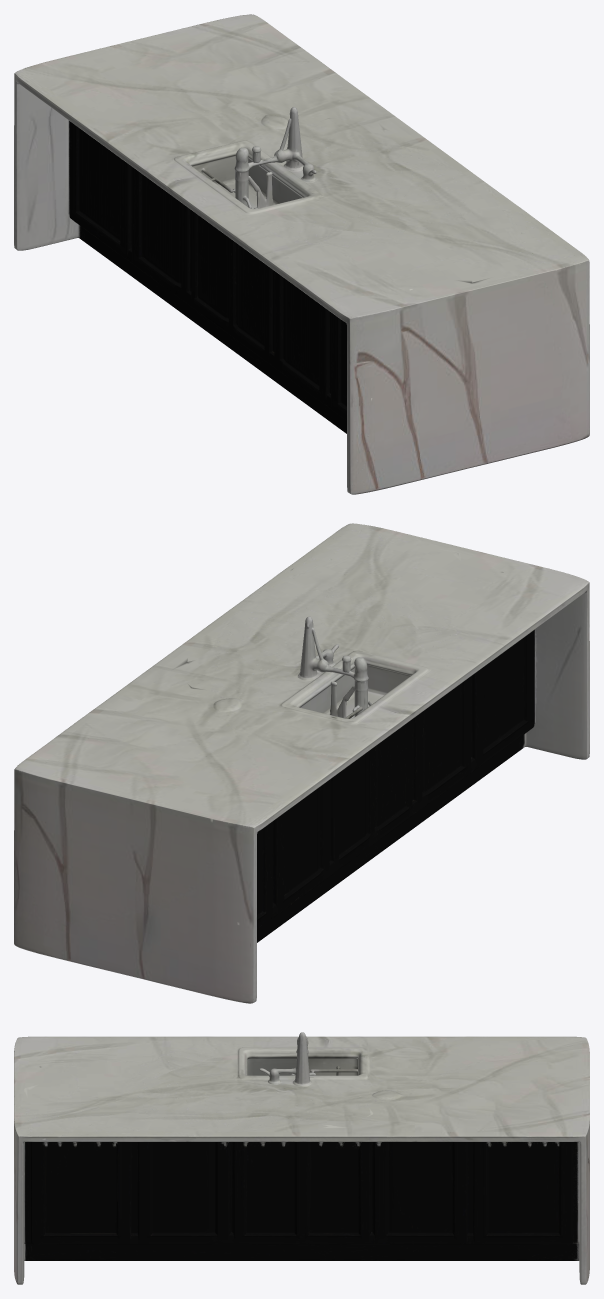
3 views of the same model, one above another, from view 1: azimuth 30°, elevation 25°; view 2: azimuth 150°, elevation 25°; view 3: azimuth 270°, elevation 25° (orthographic). The views are drawn at different scales.
Parts seen in each view (by area): view 1: material; view 2: material; view 3: material.
Part boxes in pixels (x1,y1,x2,y2): material: (14, 14, 589, 494); material: (14, 523, 589, 1003); material: (14, 1032, 589, 1284).
Size of the model in its own units: 0.4358 by 0.4088 by 1.06.
Materials: 1 (1 with a texture image).
